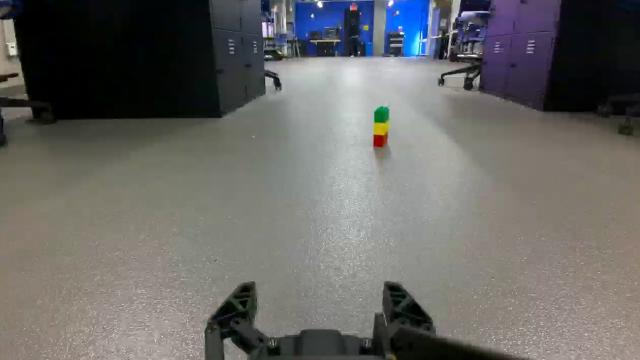lego: (374, 109, 388, 146)
